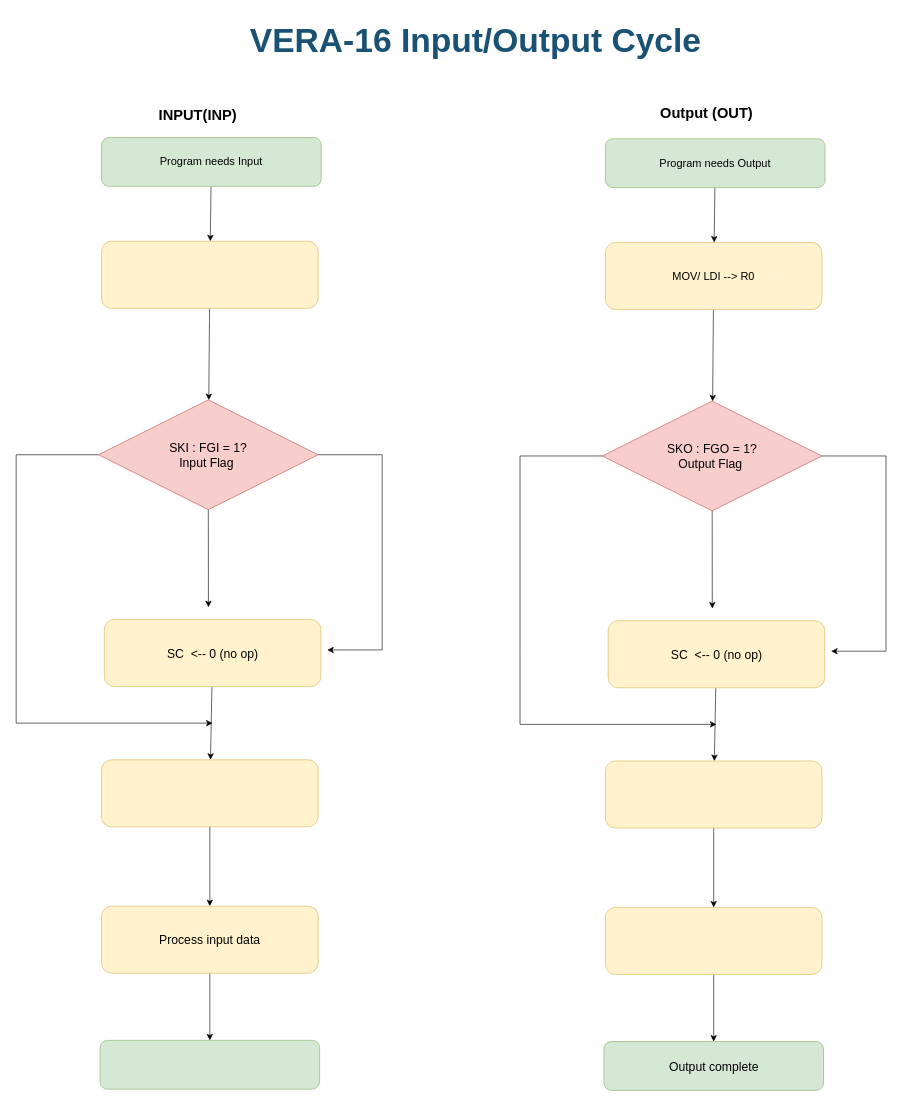
This 903x1101 diagram has some shape labels left out. The centre of each missing label's shape, as x and y in pixels:
"Device reads OUTR" goes at (713,940).
"INP : R0 <-- INPR FGO <-- 0" goes at (209,793).
"Input complete" goes at (209,1064).
"ION: IEN <-- 1" goes at (209,274).
"OUT : OUTR <-- RO[7:0] FGO <-- 0" goes at (713,794).
